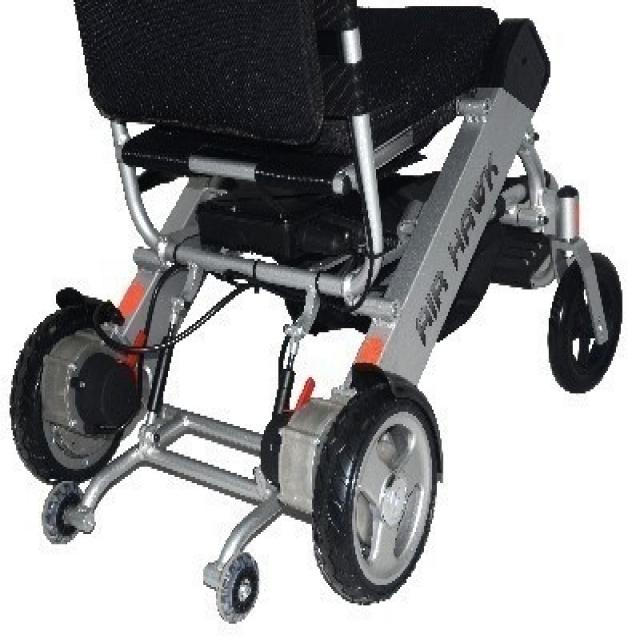wheelchair: (4, 0, 626, 636)
